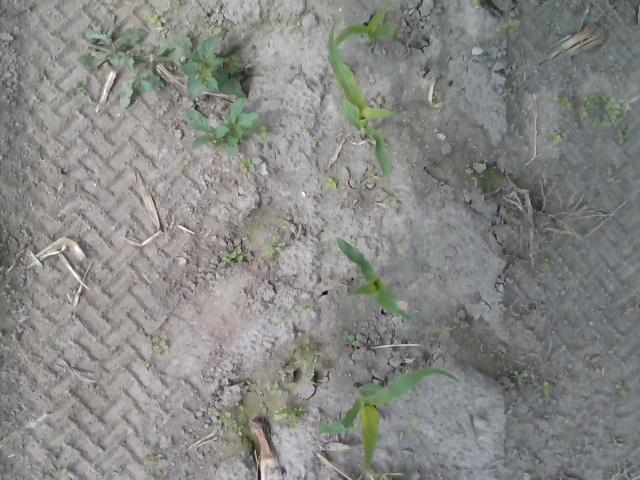Maize: (318, 367, 463, 473), (324, 22, 408, 174), (334, 236, 413, 322)
Weeds: (76, 24, 167, 112), (160, 28, 250, 98), (182, 98, 260, 159), (578, 94, 634, 144), (594, 64, 627, 94), (293, 338, 317, 371), (272, 405, 304, 423), (220, 410, 243, 434), (145, 458, 169, 480), (494, 15, 520, 34), (262, 236, 286, 254), (552, 93, 574, 110), (221, 247, 243, 264), (146, 11, 168, 28), (383, 191, 401, 205), (240, 158, 258, 172), (549, 128, 565, 143), (501, 210, 516, 226), (341, 327, 356, 342), (514, 370, 530, 384), (254, 122, 268, 136), (558, 114, 572, 128), (153, 340, 167, 353), (176, 157, 188, 172), (323, 177, 337, 189), (539, 255, 551, 269), (438, 324, 452, 336), (269, 382, 283, 394), (541, 380, 552, 395), (344, 197, 357, 209), (430, 89, 442, 101), (375, 471, 390, 480), (466, 0, 482, 8), (169, 0, 180, 10), (552, 151, 562, 160), (503, 88, 511, 96)
